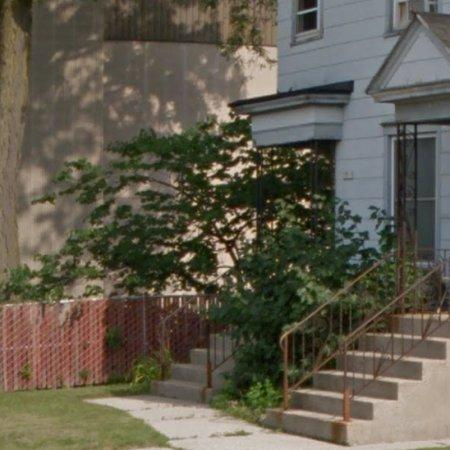stairs: (265, 268, 450, 446)
